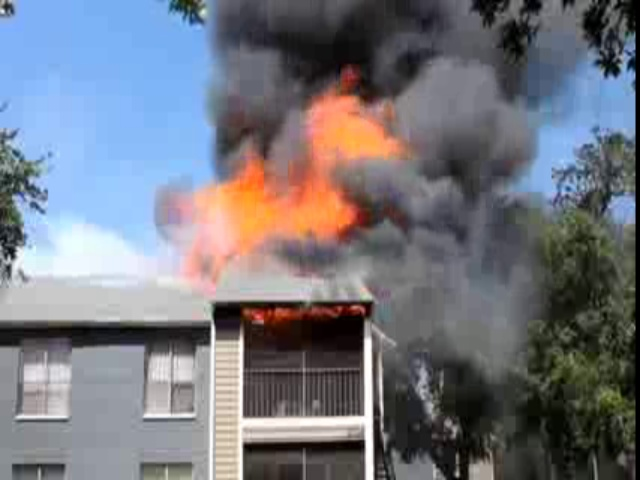fire: (205, 170, 360, 245), (305, 99, 400, 161)
